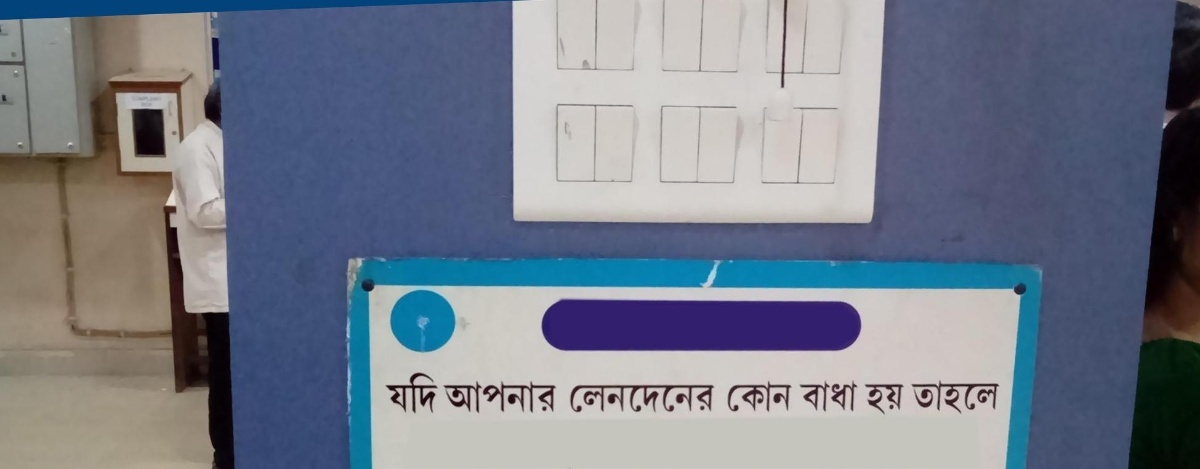text: (385, 372, 400, 414), (401, 372, 416, 414), (417, 372, 432, 414), (913, 380, 928, 415), (929, 380, 944, 415), (945, 380, 960, 415), (961, 380, 976, 415), (977, 380, 992, 415), (449, 381, 464, 414), (465, 381, 480, 414), (481, 381, 496, 414), (497, 381, 512, 414), (513, 381, 528, 414), (529, 381, 544, 414), (801, 380, 816, 413), (817, 380, 832, 413), (833, 380, 848, 413), (865, 381, 880, 414), (881, 381, 896, 414), (737, 381, 752, 413), (753, 381, 768, 413), (769, 381, 784, 413), (577, 385, 592, 413), (593, 385, 608, 413), (609, 385, 624, 413), (625, 385, 640, 413), (641, 385, 656, 413), (657, 385, 672, 413), (673, 385, 688, 413), (689, 385, 704, 413), (545, 381, 556, 414), (726, 381, 736, 413), (849, 380, 858, 413), (433, 372, 440, 414), (705, 385, 715, 413), (897, 381, 905, 414), (993, 380, 1000, 415), (785, 381, 792, 413), (570, 385, 576, 413), (444, 381, 448, 414), (911, 380, 912, 415)
